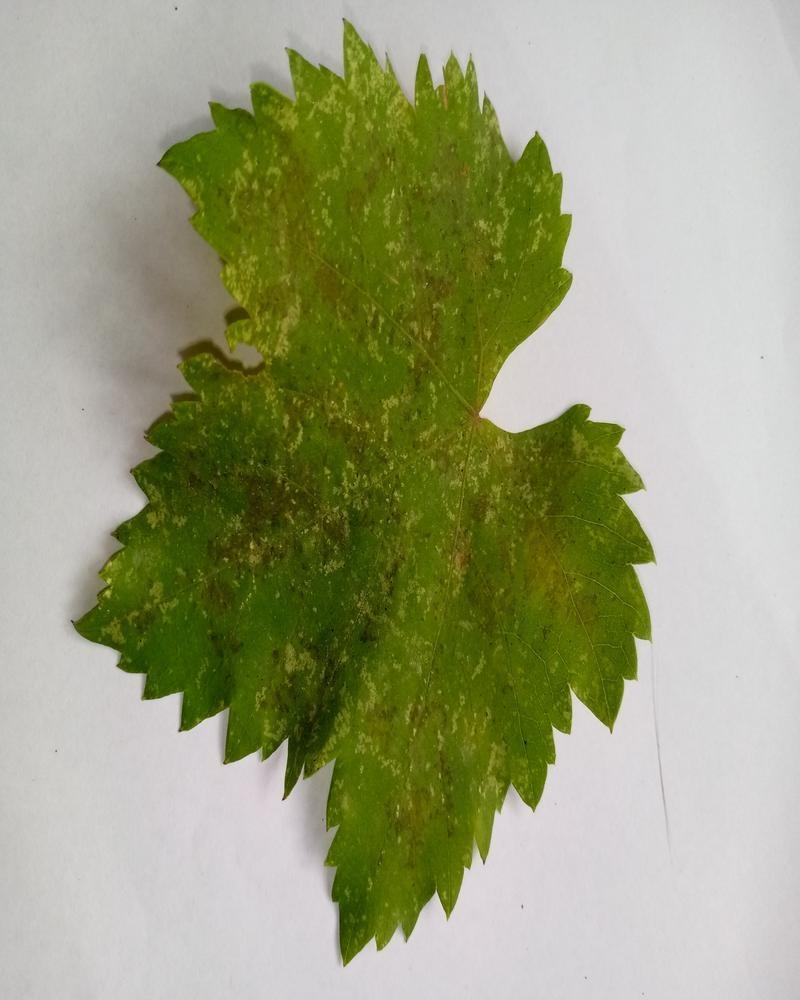Powdery-Mildew: (290, 34, 527, 246), (207, 368, 394, 521), (219, 144, 349, 350), (341, 662, 483, 846), (407, 431, 563, 585), (368, 240, 476, 406), (199, 475, 334, 601), (532, 555, 630, 630), (252, 640, 330, 732)
